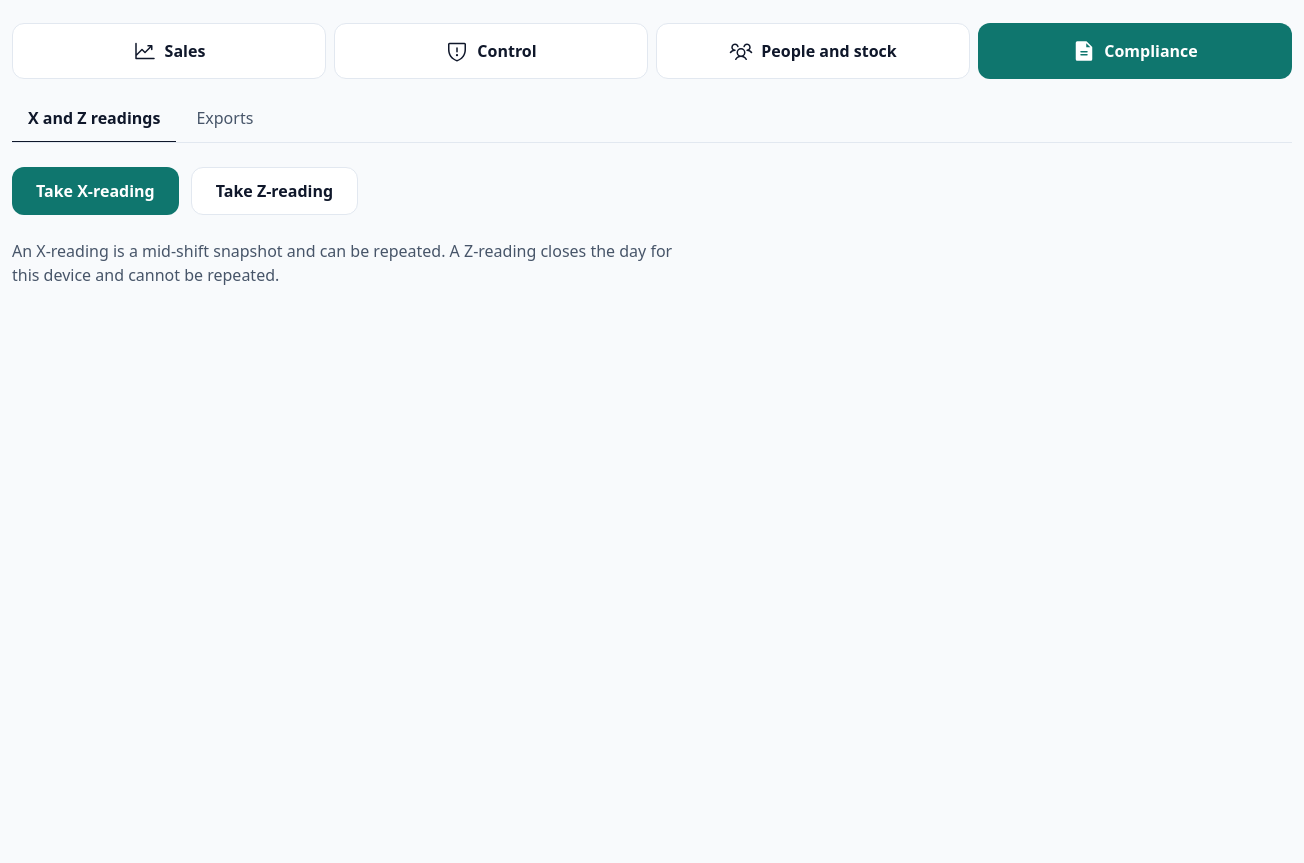
Scenario: X and Z readings › takes an X-reading and shows every server figure
Click the button "Take X-reading": (95, 191) [12,167,179,215]
(page scrolled)
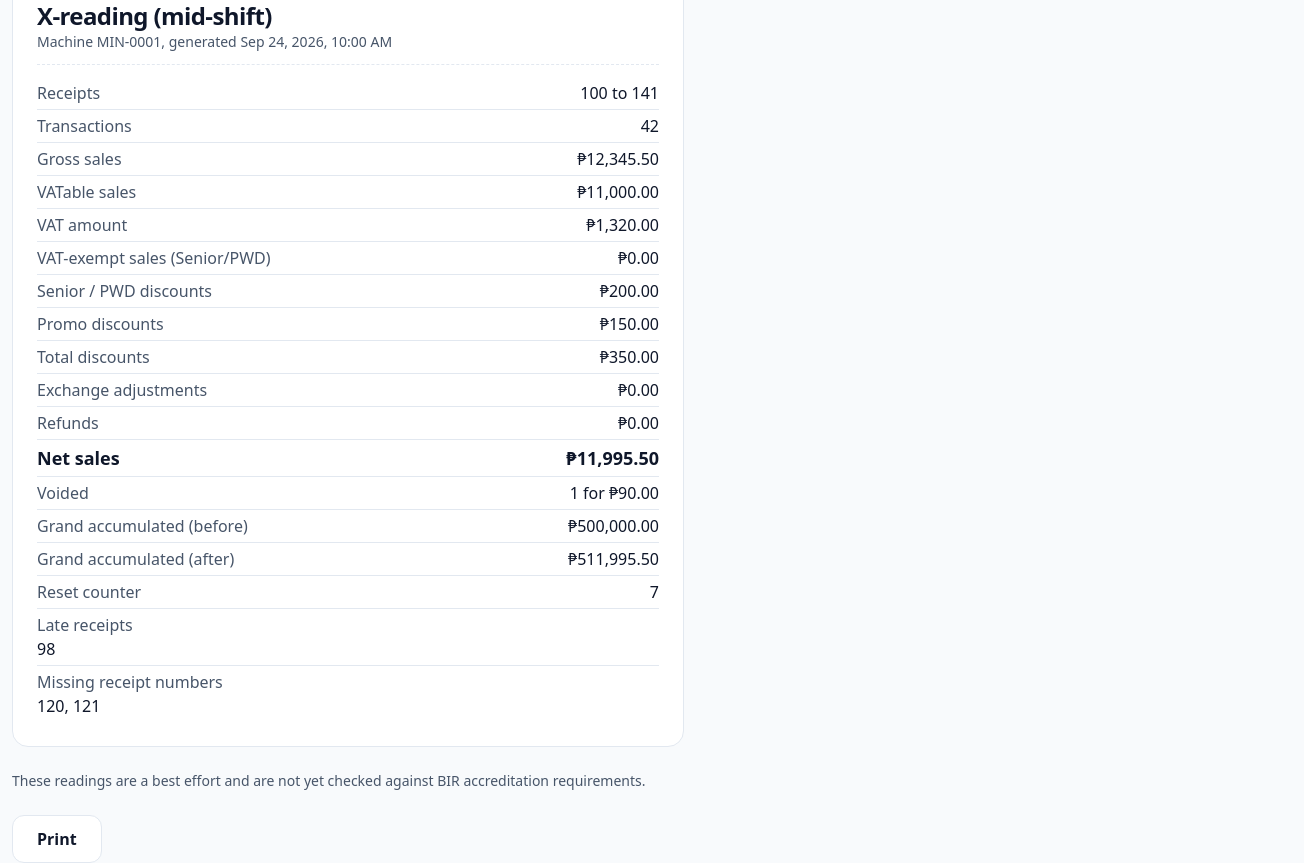
Now the text "100 to 141" is shown, box [580,81,659,105]
Now the text "₱12,345.50" is shown, box [577,147,659,171]
Now the text "₱11,995.50" is shown, box [566,444,659,472]
